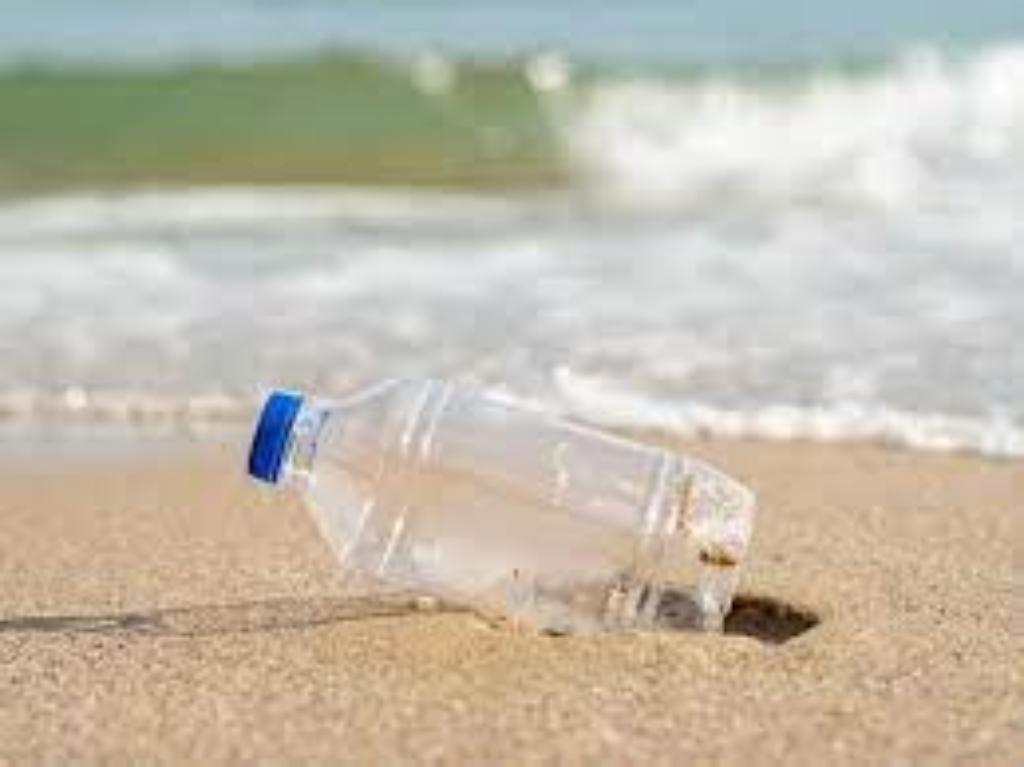garbage: (239, 366, 769, 639)
